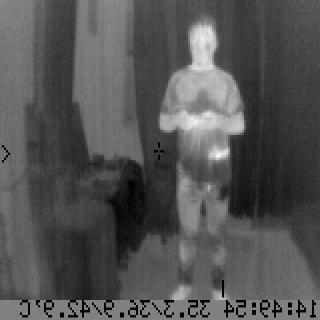Gun: (202, 145, 232, 197)
